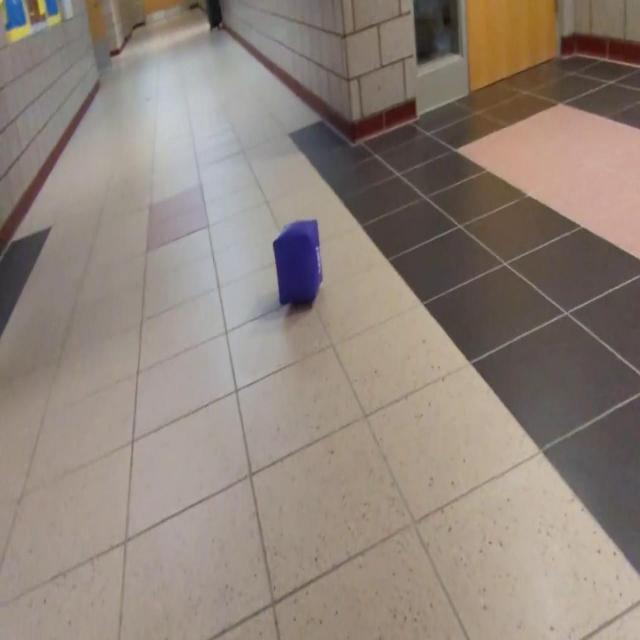frc_cube: (273, 220, 321, 308)
